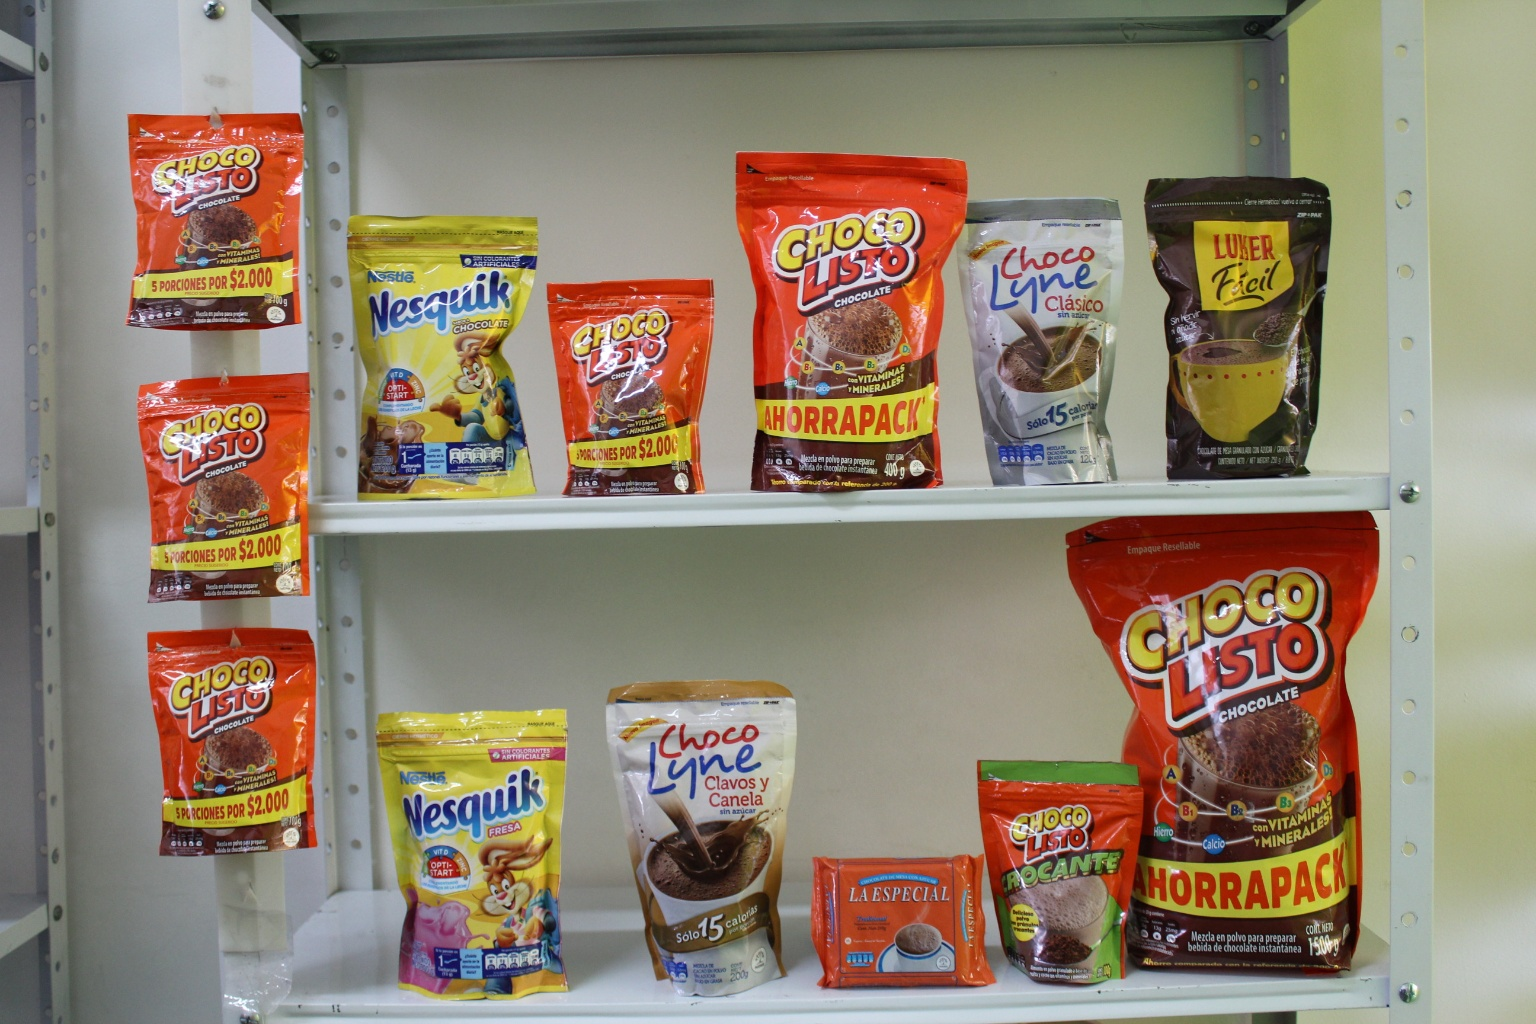COL0170102DYP10000: (963, 743, 1147, 987)
COL0170103DYP1,500: (1059, 506, 1391, 979)
COL0170103DYP10000: (543, 283, 717, 503)
COL0170103DYP40000: (725, 138, 963, 498)
COL0170303DYP20000: (352, 207, 555, 519)
COL0170305DYP20000: (369, 704, 575, 1008)
